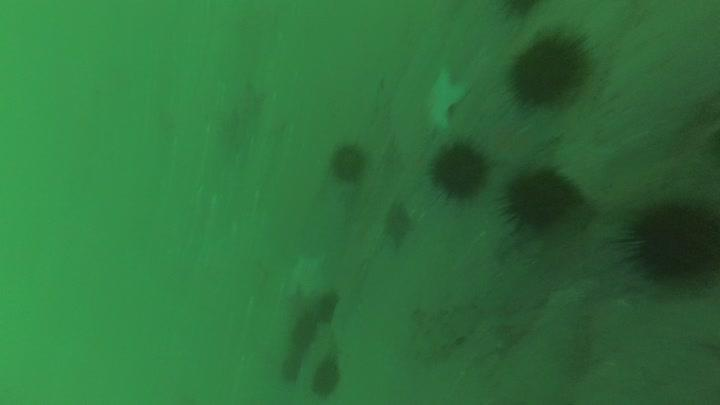urchin: (617, 192, 720, 286), (498, 33, 592, 107), (499, 163, 572, 236), (426, 137, 496, 204), (327, 142, 370, 187)
